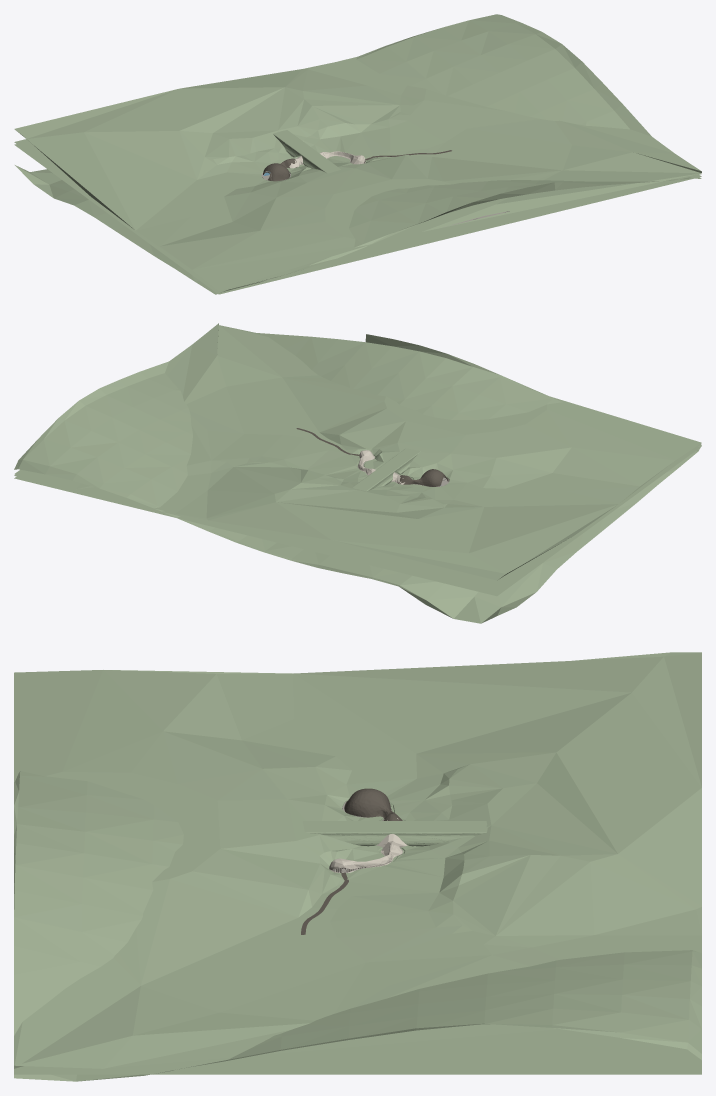
File: museum-study-2.glb
The picture shows the model from 3 angles, top to bottom: view 1: azimuth 30°, elevation 25°; view 2: azimuth 150°, elevation 25°; view 3: azimuth 270°, elevation 25°; orthographic projection. The views are drawn at different scales.
Visible parts, largest first — view 1: ground:Landscape, project:Dark timber; view 2: ground:Landscape, project:Dark timber; view 3: ground:Landscape, project:Dark timber, project:Plaster.
Part boxes in pixels (x1,y1,x2,y2): ground:Landscape: (14, 14, 701, 294); project:Dark timber: (263, 150, 451, 181); ground:Landscape: (14, 323, 701, 623); project:Dark timber: (296, 428, 448, 486); ground:Landscape: (14, 652, 701, 1081); project:Dark timber: (301, 788, 402, 934); project:Plaster: (329, 818, 407, 872).
Bounding box in the file's own units: 294 × 38.03 × 216.
